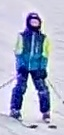skier: (0, 11, 64, 129)
